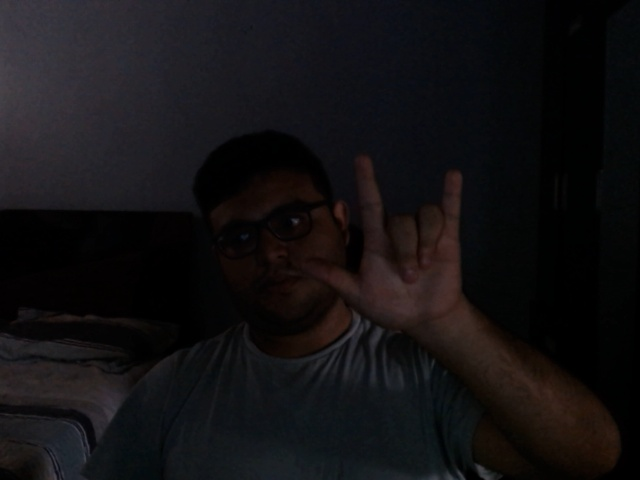I love you: (304, 149, 475, 347)
